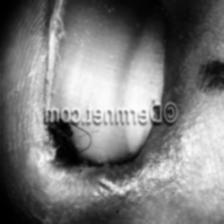Toxin: (40, 122, 86, 180)
